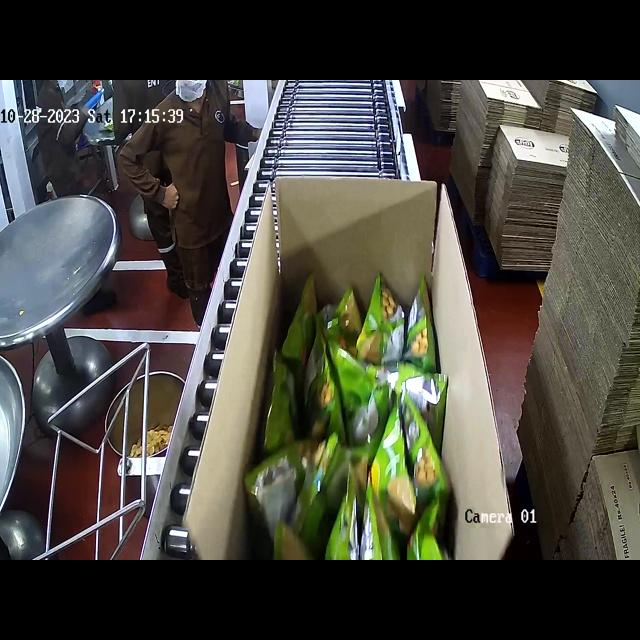yogurt: (245, 270, 452, 558)
